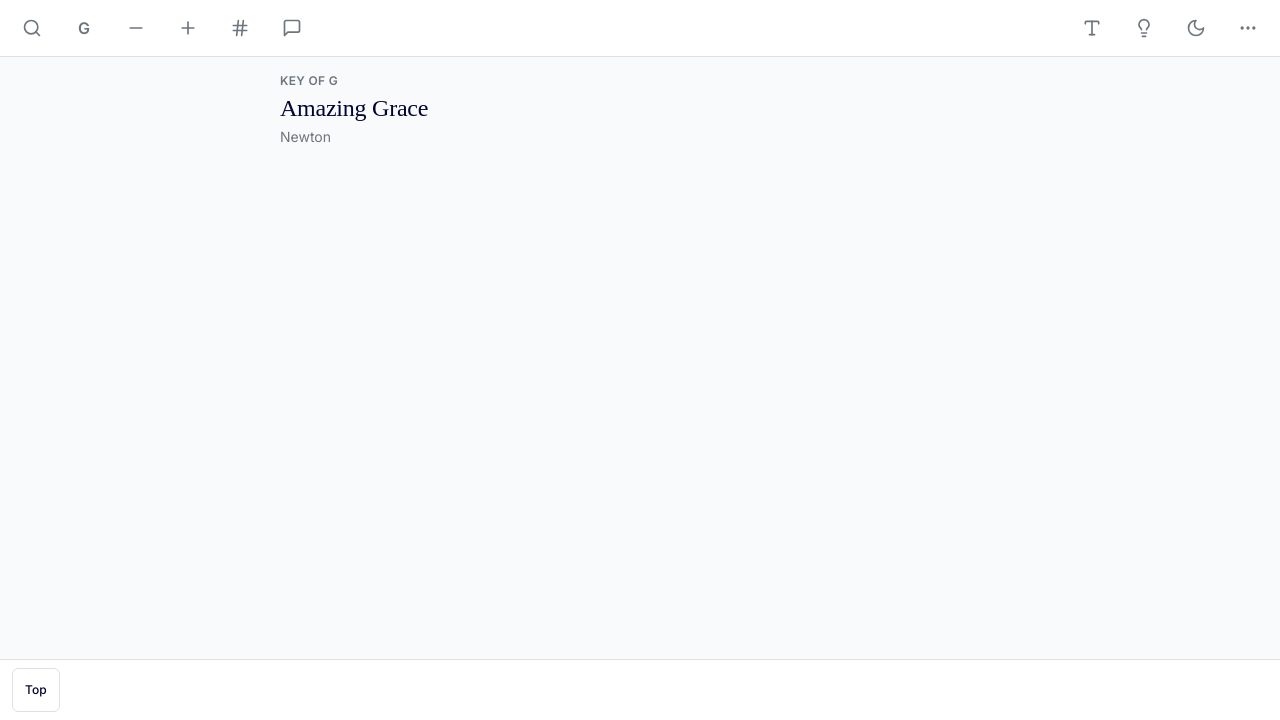
it: Role-gated UI › SongChartPage › musician sees Edit, Delete, Share chart and Log a play in the More menu
Expected: the heading "Amazing Grace" is shown, [280, 95, 428, 121]
What coordinates should you click on to do the following:
click the button named "more actions"
I would click on:
 (1248, 28)
Its box is [1224, 4, 1272, 52].
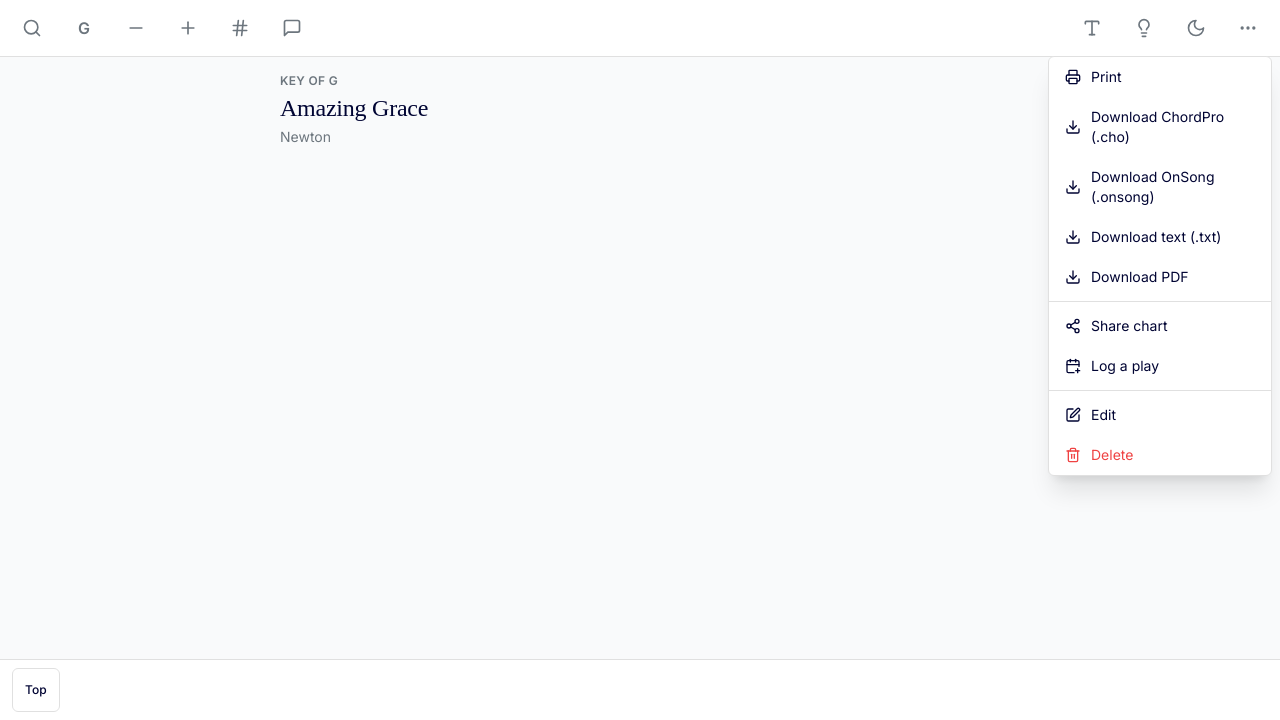
Now the menu item "Edit" is shown, box [1049, 395, 1271, 435]
Now the menu item "Delete" is shown, box [1049, 435, 1271, 475]
Now the menu item "Share chart" is shown, box [1049, 306, 1271, 346]
